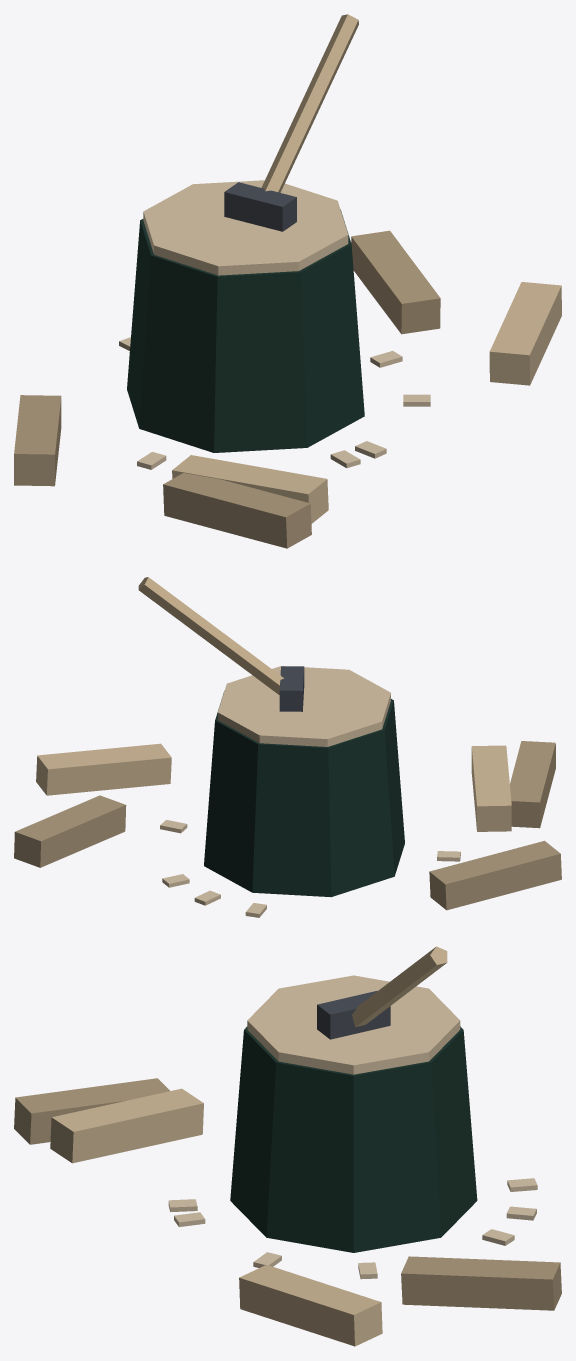
Rendered from stump.glb.
3 views of the same model, one above another, from view 1: azimuth 30°, elevation 25°; view 2: azimuth 150°, elevation 25°; view 3: azimuth 270°, elevation 25° (orthographic). The views are drawn at different scales.
Parts seen in each view (by area): view 1: pine_d45, driftwood_d15, driftwood_l15, driftwood_l5, driftwood_d5, slate_d35, driftwood_l20; view 2: pine_d45, driftwood_d15, driftwood_l15, driftwood_l5, driftwood_d5, driftwood_l20, slate_d35; view 3: pine_d45, driftwood_l5, driftwood_l15, driftwood_d15, driftwood_l20, driftwood_d5, slate_d35.
Part boxes in pixels (bbox=[...]): pine_d45: bbox=[127, 209, 364, 452]; driftwood_d15: bbox=[14, 230, 440, 548]; driftwood_l15: bbox=[143, 180, 348, 275]; driftwood_l5: bbox=[172, 282, 561, 523]; driftwood_d5: bbox=[261, 14, 358, 192]; slate_d35: bbox=[224, 182, 296, 231]; driftwood_l20: bbox=[119, 337, 430, 469]; pine_d45: bbox=[204, 691, 404, 897]; driftwood_d15: bbox=[14, 741, 561, 910]; driftwood_l15: bbox=[218, 666, 390, 746]; driftwood_l5: bbox=[36, 743, 511, 831]; driftwood_d5: bbox=[138, 577, 283, 694]; driftwood_l20: bbox=[160, 820, 460, 917]; slate_d35: bbox=[279, 666, 304, 711]; pine_d45: bbox=[230, 1026, 477, 1252]; driftwood_l5: bbox=[50, 1088, 382, 1346]; driftwood_l15: bbox=[247, 975, 460, 1074]; driftwood_d15: bbox=[14, 1078, 561, 1310]; driftwood_l20: bbox=[168, 1178, 537, 1279]; driftwood_d5: bbox=[352, 946, 447, 1027]; slate_d35: bbox=[317, 990, 390, 1039].
Size of the model in its own units: 1.97 by 1.04 by 1.6.
